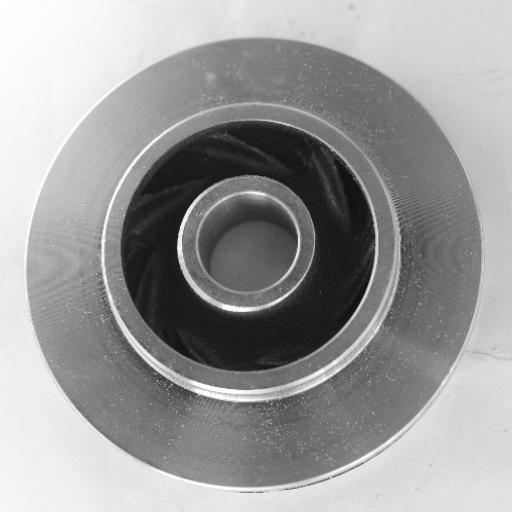polished_casting: (25, 35, 484, 493)
